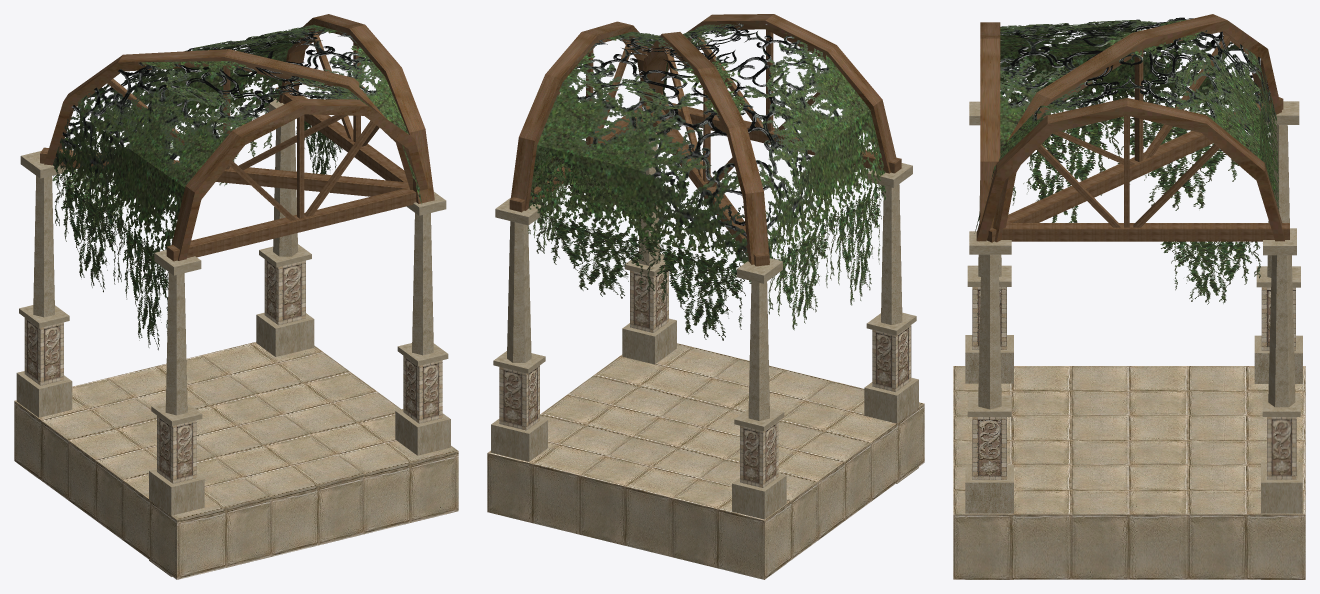
The model's file is thm_nboo_imprv_arbor_corner_90_s01_l0.fbx.
3 renders of one model, left to right at view 1: azimuth 30°, elevation 25°; view 2: azimuth 150°, elevation 25°; view 3: azimuth 270°, elevation 25°, orthographic. The views are drawn at different scales.
Parts seen in each view (by area): view 1: mesh_node; view 2: mesh_node; view 3: mesh_node.
Part boxes in pixels (<box>): mesh_node: <box>14,14,458,579</box>; mesh_node: <box>487,14,924,579</box>; mesh_node: <box>953,14,1305,579</box>.
Size of the model in its own units: 4 by 5.86 by 4.
Materials: 6 (6 with a texture image).
